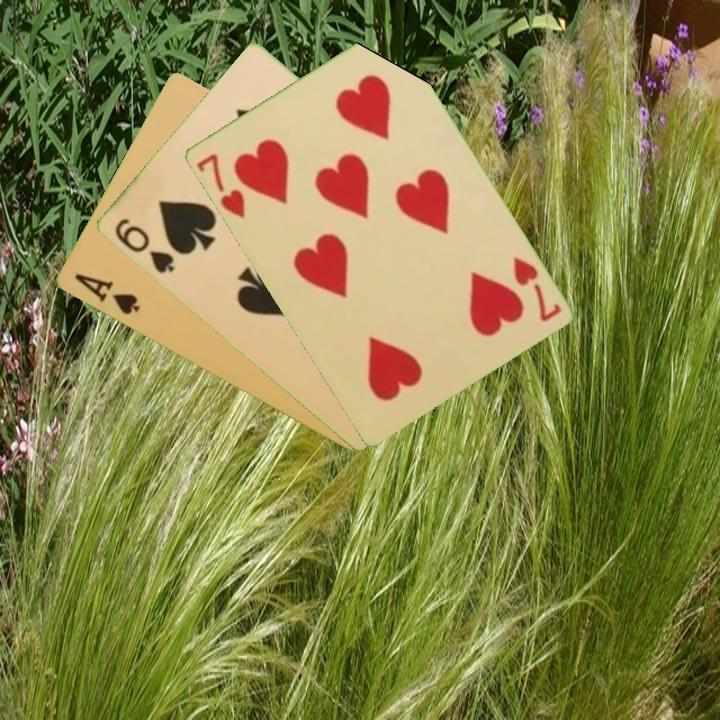6s: (111, 214, 177, 277)
7h: (508, 252, 564, 325), (192, 150, 248, 221)
As: (71, 270, 143, 318)
